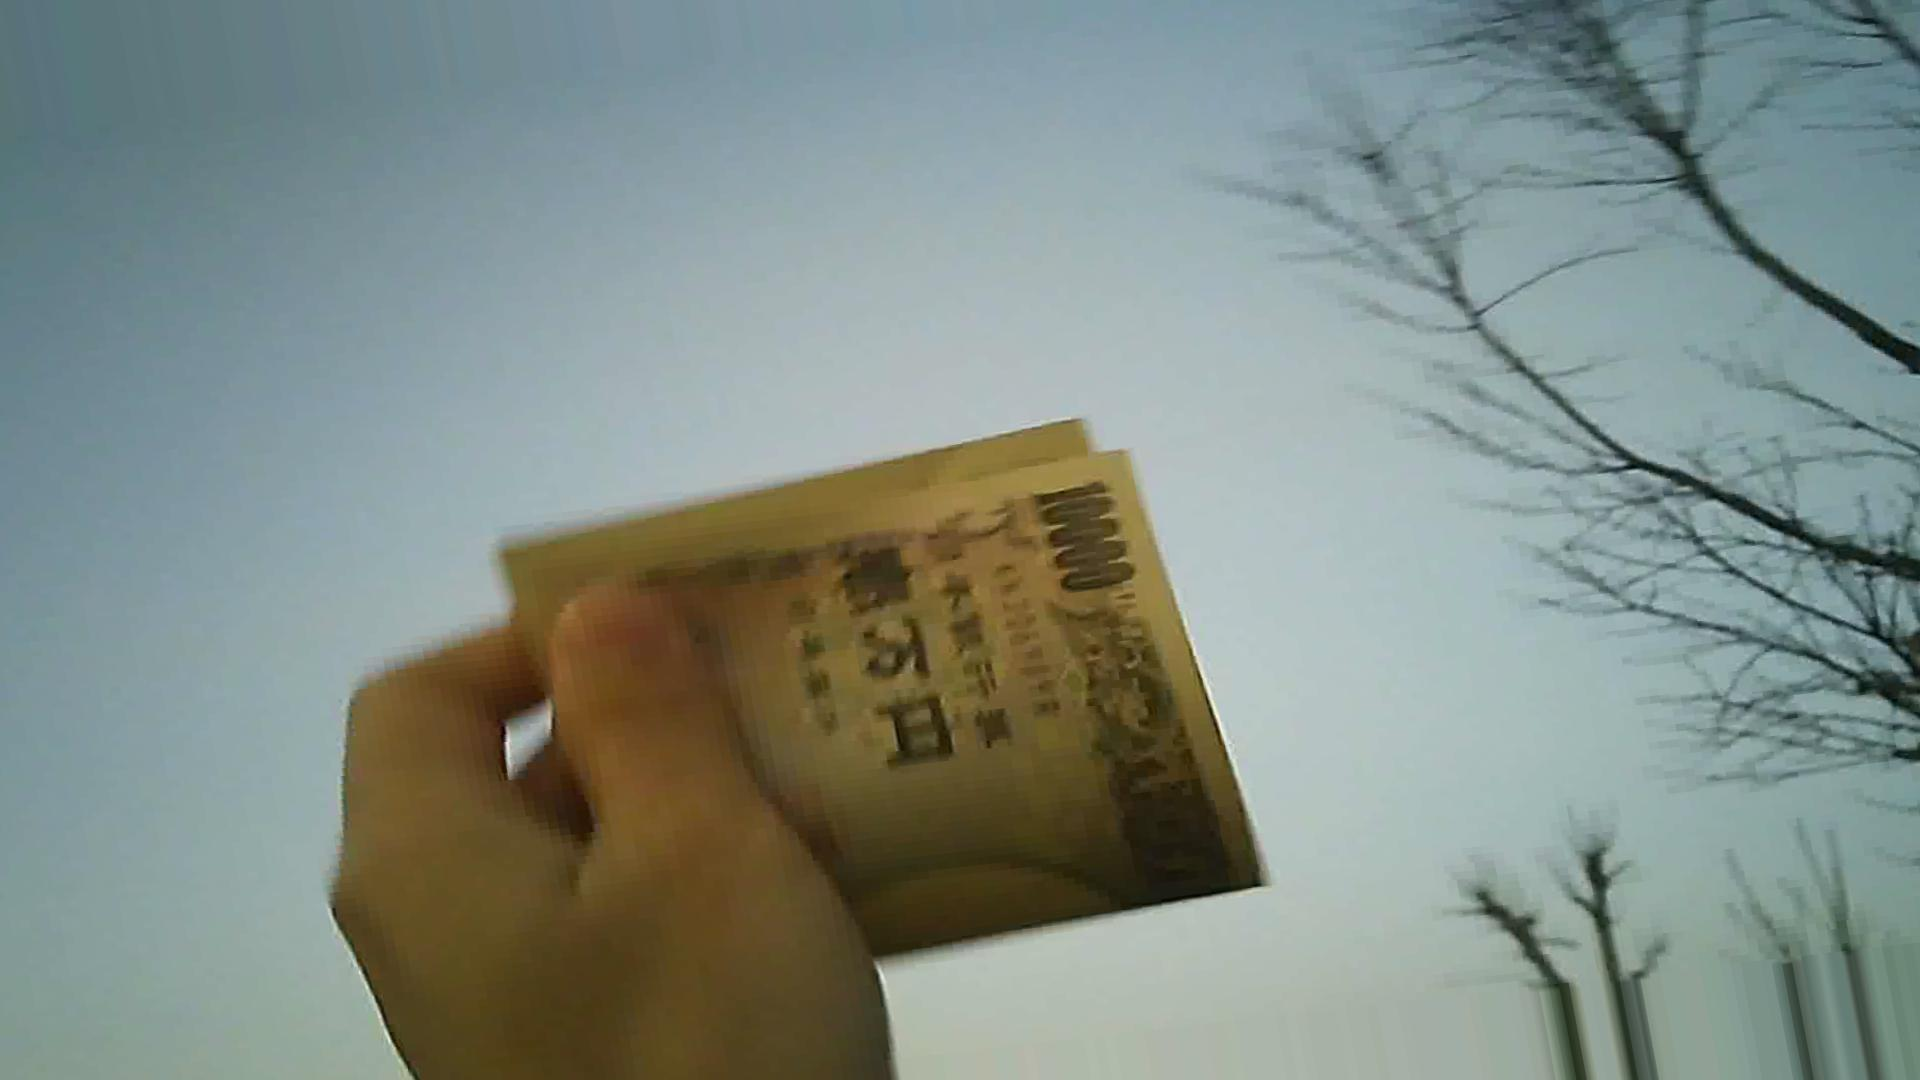10,000 Yen: (469, 433, 1302, 967)
